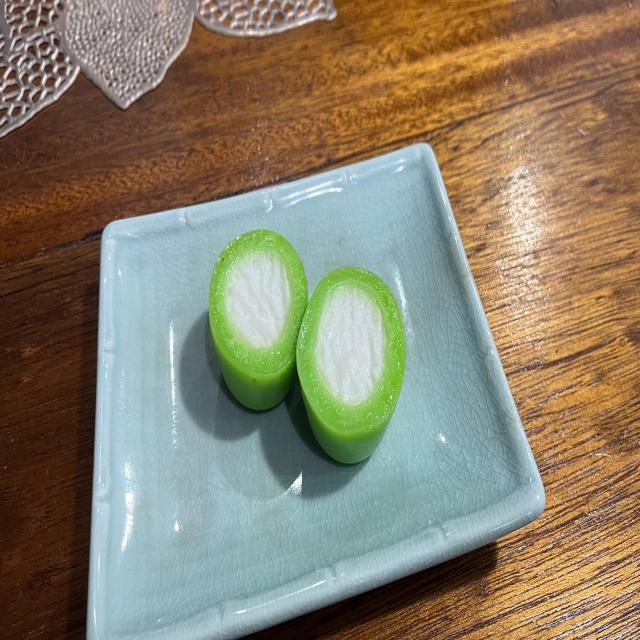nona-manis: (296, 267, 406, 464), (209, 229, 308, 409)
